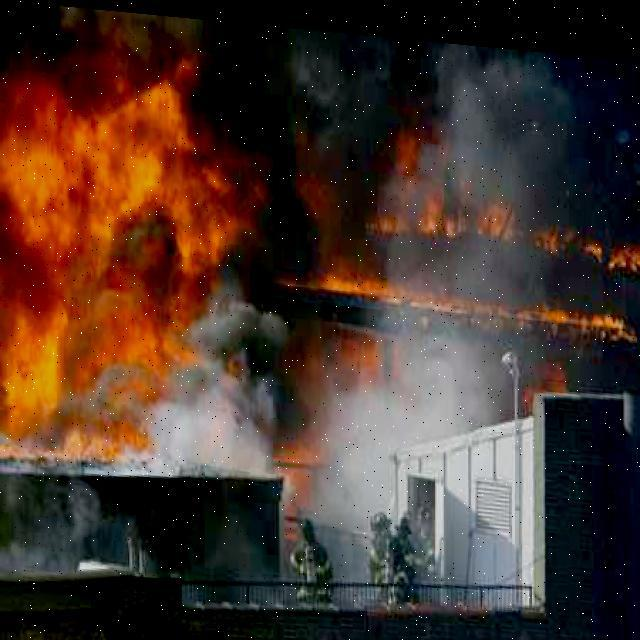Fire: (2, 69, 234, 462), (380, 116, 636, 260), (302, 256, 632, 330)
